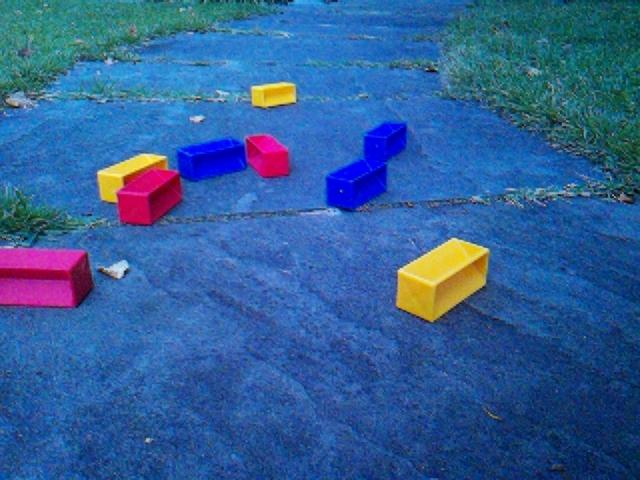blue: (325, 157, 388, 211), (176, 136, 248, 182), (363, 120, 409, 165)
red: (1, 245, 95, 309), (115, 167, 184, 226), (245, 132, 291, 179)
yellow: (395, 236, 491, 323), (96, 151, 169, 204), (250, 81, 298, 109)
